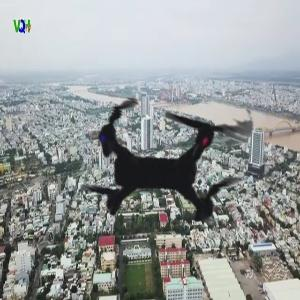drone: (31, 26, 299, 294)
